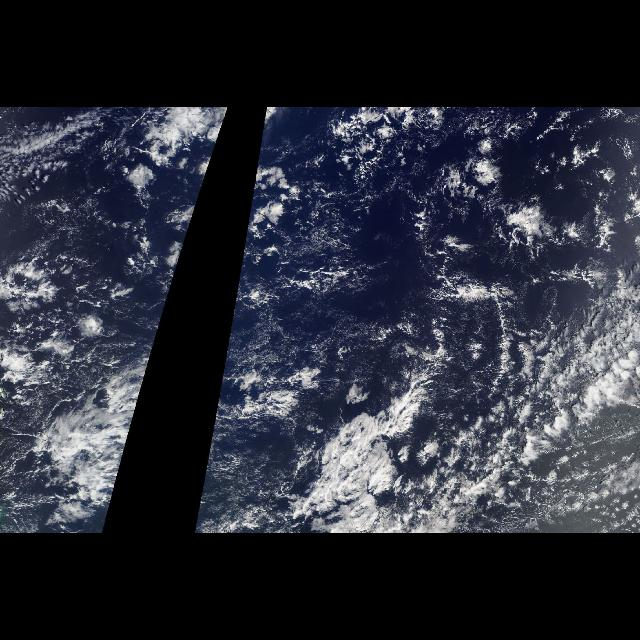Sugar: (247, 250, 498, 368)
